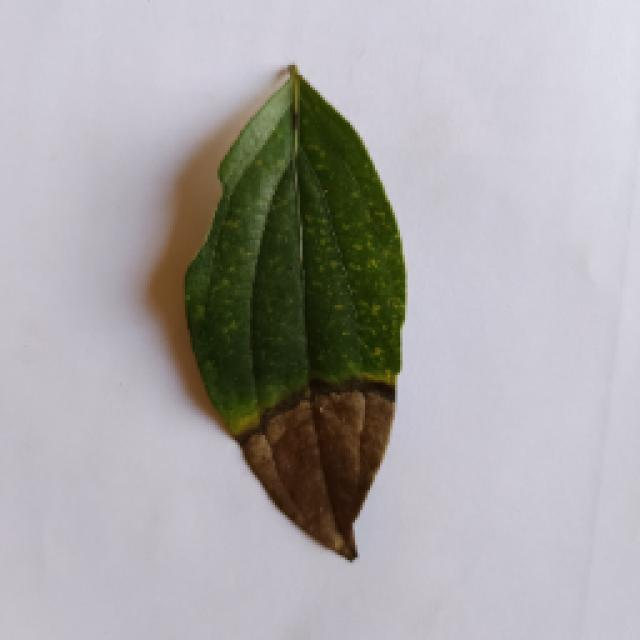footrot: (178, 65, 408, 567)
